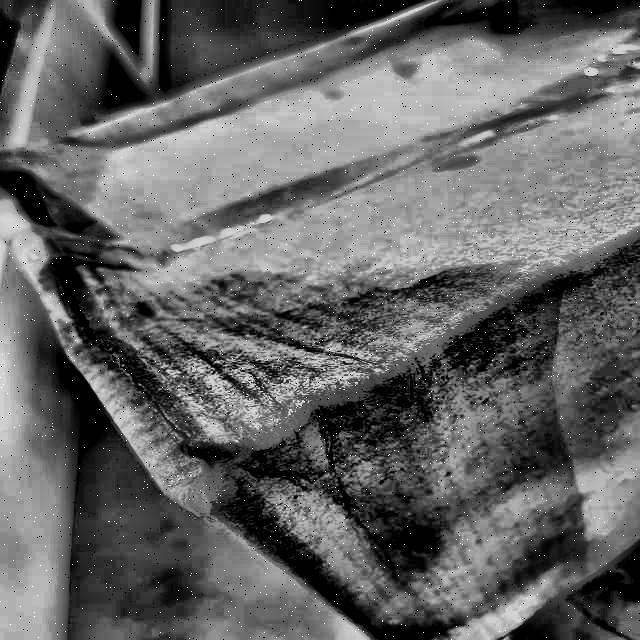box: (1, 0, 640, 639)
wet: (52, 263, 586, 639)
